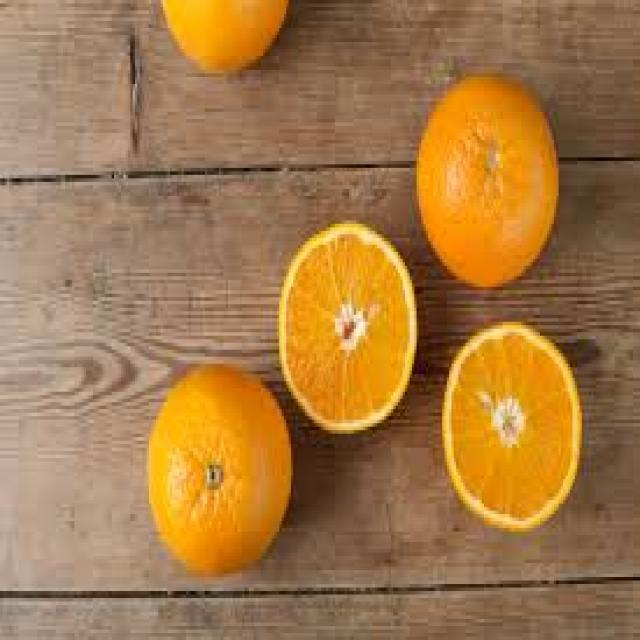orange: (414, 73, 561, 294), (144, 364, 294, 577), (440, 318, 584, 539), (277, 220, 417, 437), (156, 4, 289, 66)
